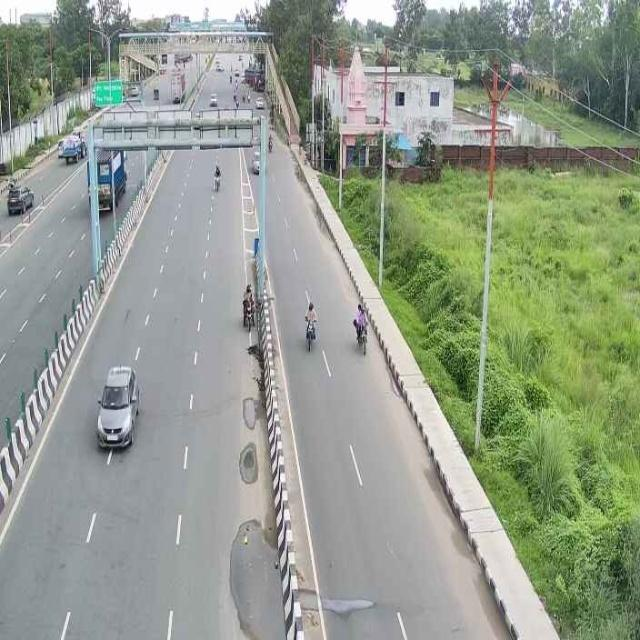car: (91, 361, 143, 450)
